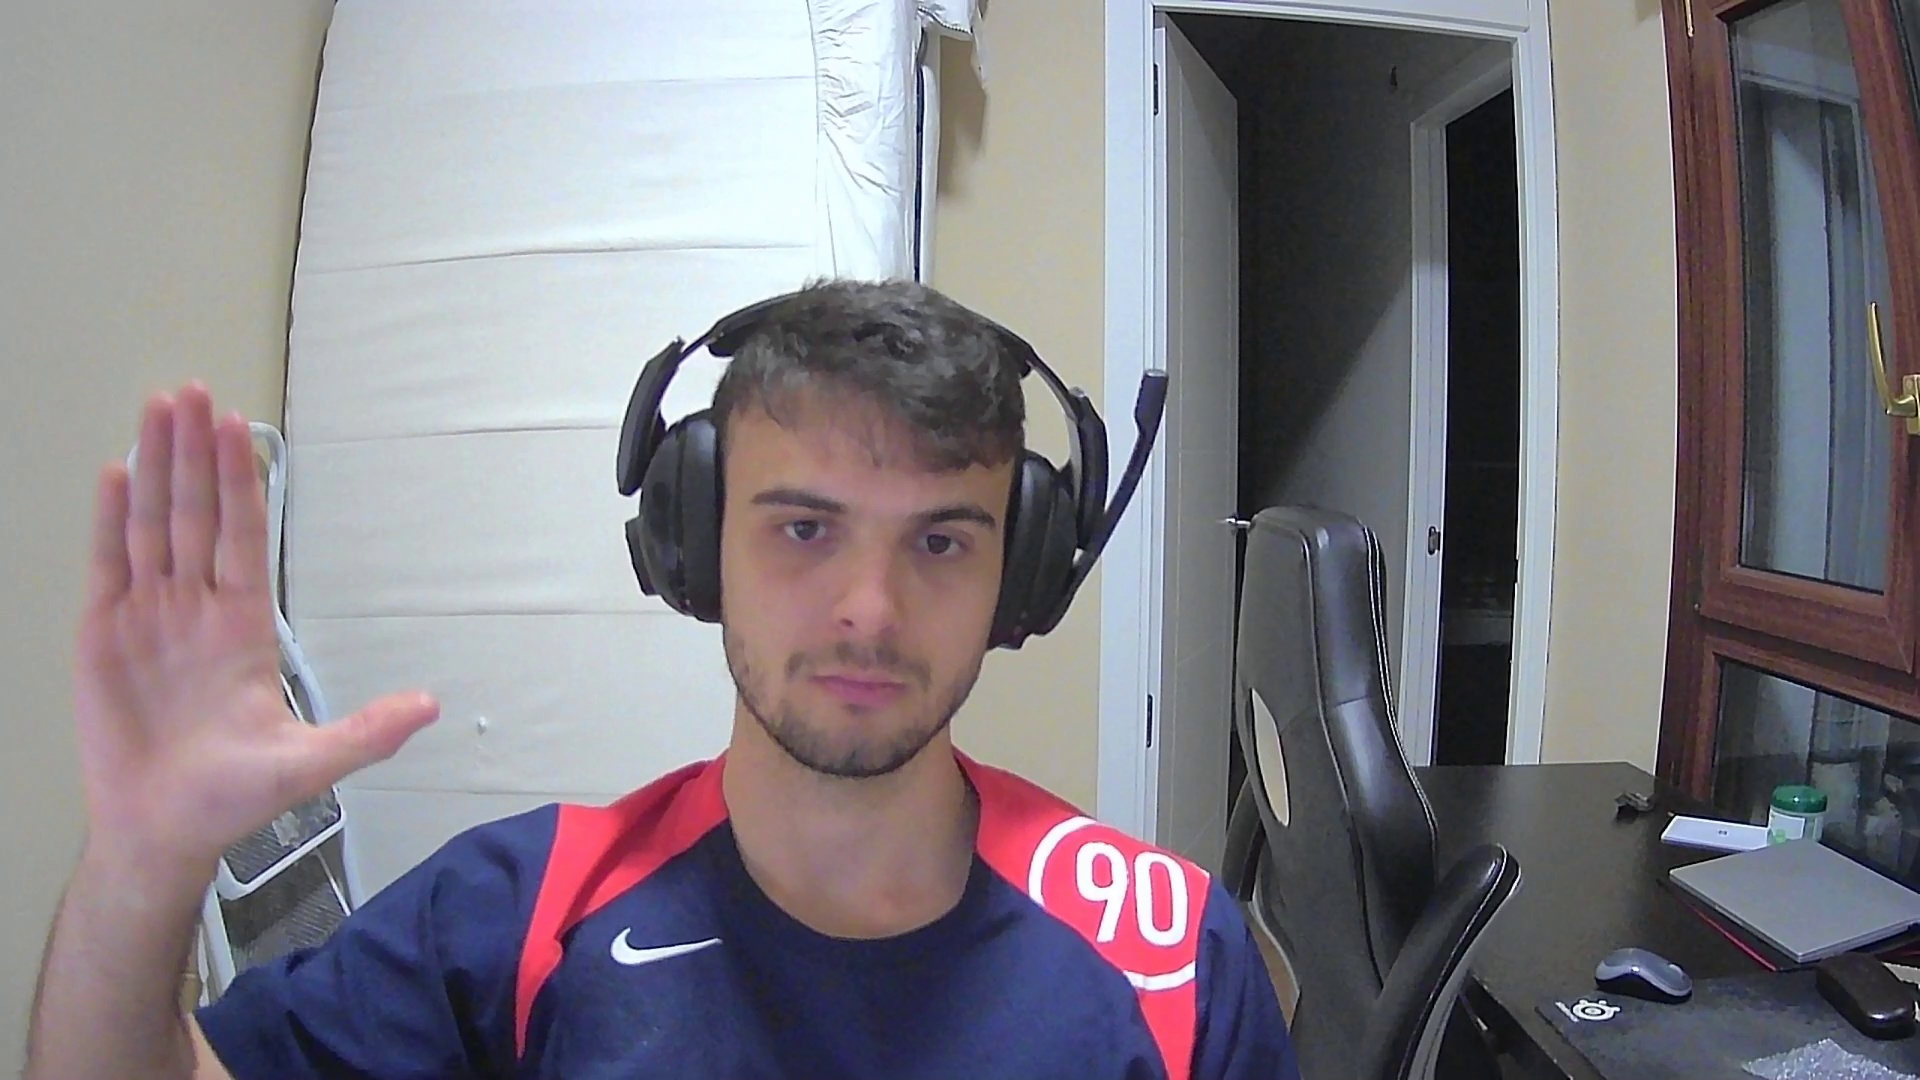Palm: (71, 381, 442, 833)
